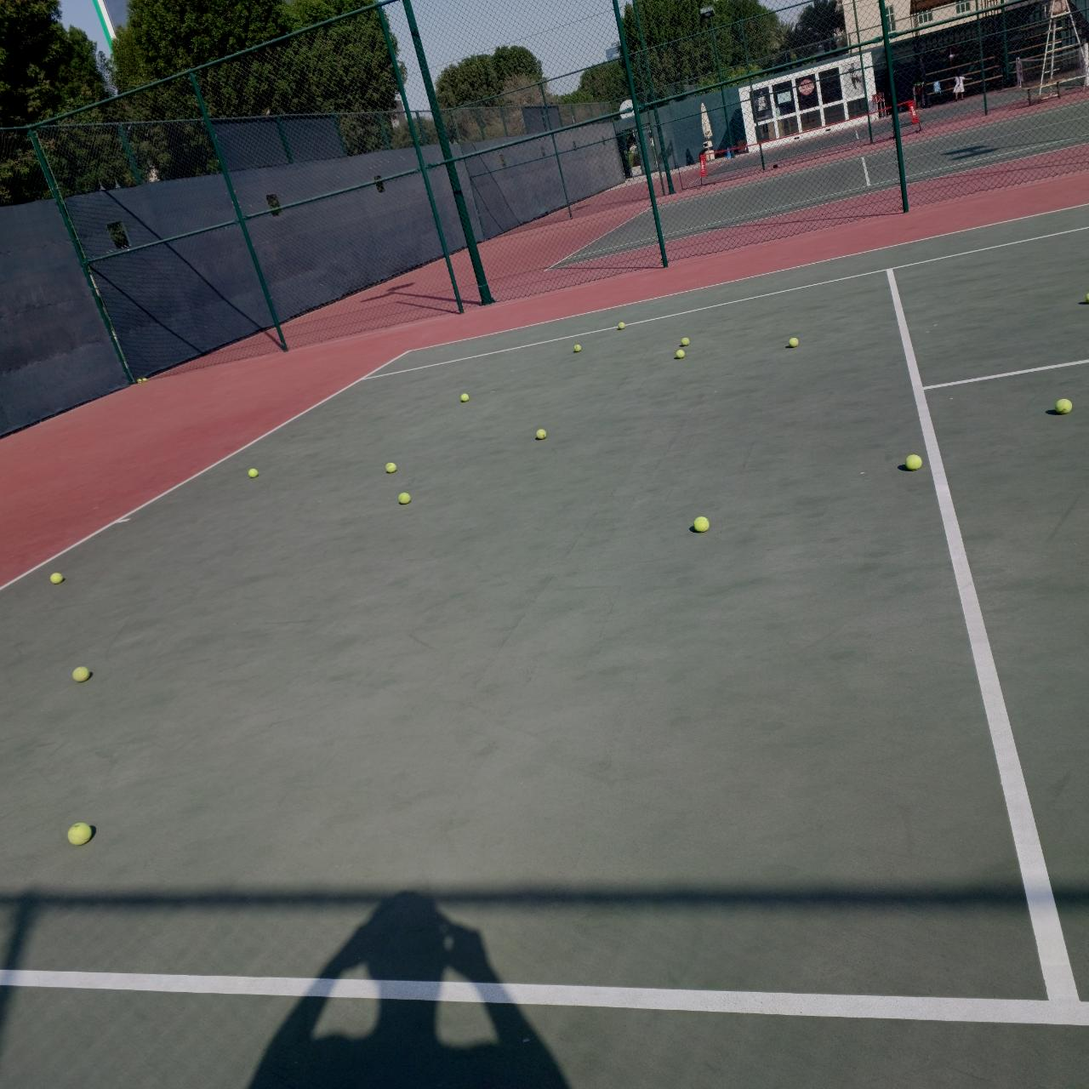tennis-ball: (66, 820, 94, 847), (71, 664, 91, 683), (693, 515, 711, 532), (905, 454, 923, 470), (1055, 398, 1073, 413), (50, 570, 66, 585), (398, 492, 411, 505), (536, 428, 547, 439), (386, 462, 397, 473), (788, 337, 798, 348), (248, 468, 258, 479), (676, 349, 685, 359), (460, 393, 469, 403), (573, 344, 582, 353), (681, 337, 690, 346), (618, 322, 625, 330), (1085, 293, 1089, 304), (136, 378, 142, 384), (143, 378, 147, 382)
